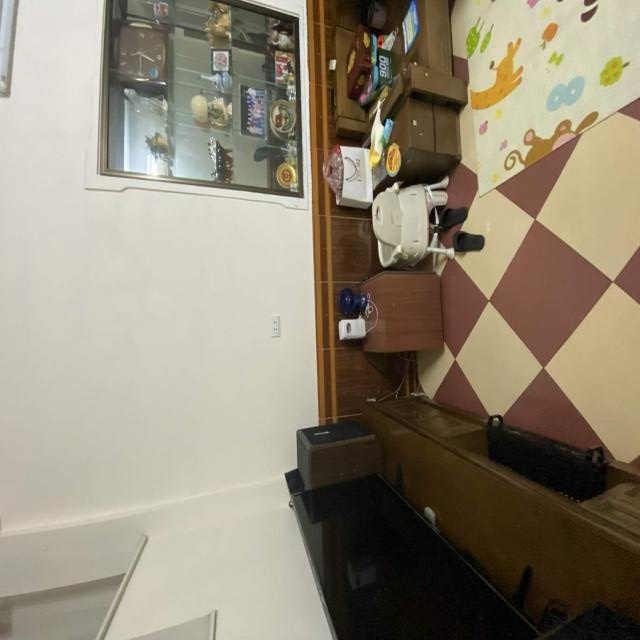outlet: (270, 315, 281, 338)
